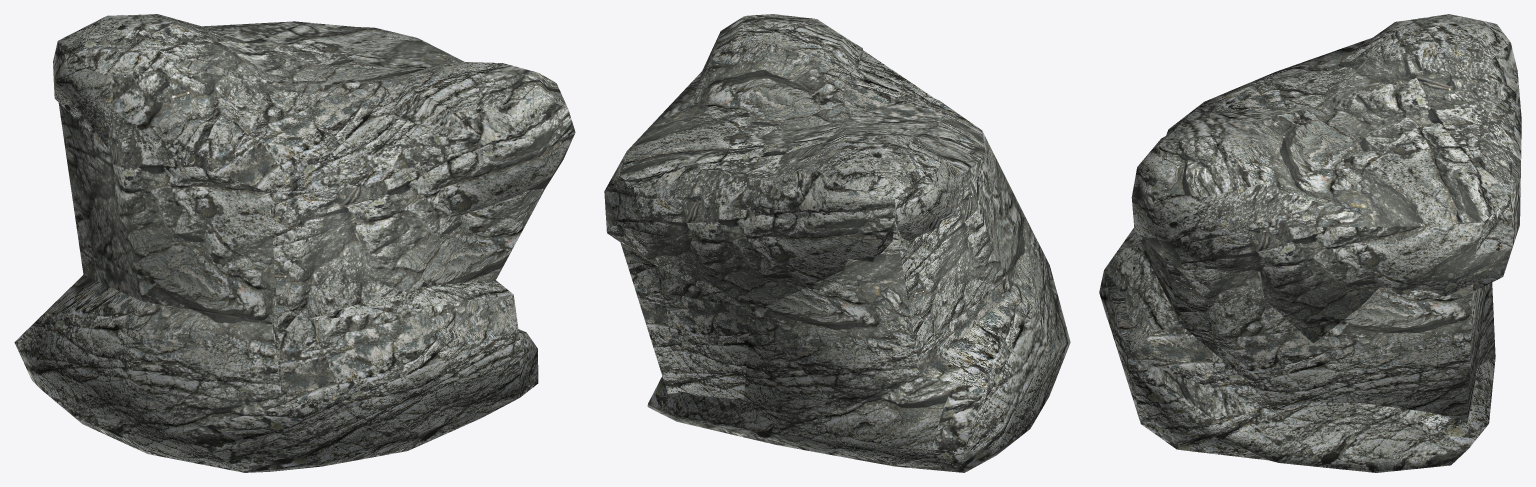
Rendered from SquareRock01.fbx.
3 views of the same model, side by side, from view 1: azimuth 30°, elevation 25°; view 2: azimuth 150°, elevation 25°; view 3: azimuth 270°, elevation 25° (orthographic). The views are drawn at different scales.
Visible parts, largest first — view 1: SquareRock512, SquareRock128, SquareRock256; view 2: SquareRock512, SquareRock128, SquareRock256; view 3: SquareRock512, SquareRock128, SquareRock256.
Boxes of the visible parts, box(x1,y1,x2,y2) form: SquareRock512: box(14, 14, 575, 472); SquareRock128: box(58, 102, 547, 471); SquareRock256: box(15, 23, 575, 472); SquareRock512: box(604, 14, 1070, 472); SquareRock128: box(620, 45, 1048, 410); SquareRock256: box(627, 46, 1049, 449); SquareRock512: box(1099, 14, 1521, 472); SquareRock128: box(1141, 102, 1487, 423); SquareRock256: box(1099, 30, 1517, 460).
Size of what is drawn, in the model's own units: 6.96 by 5.55 by 6.4.
